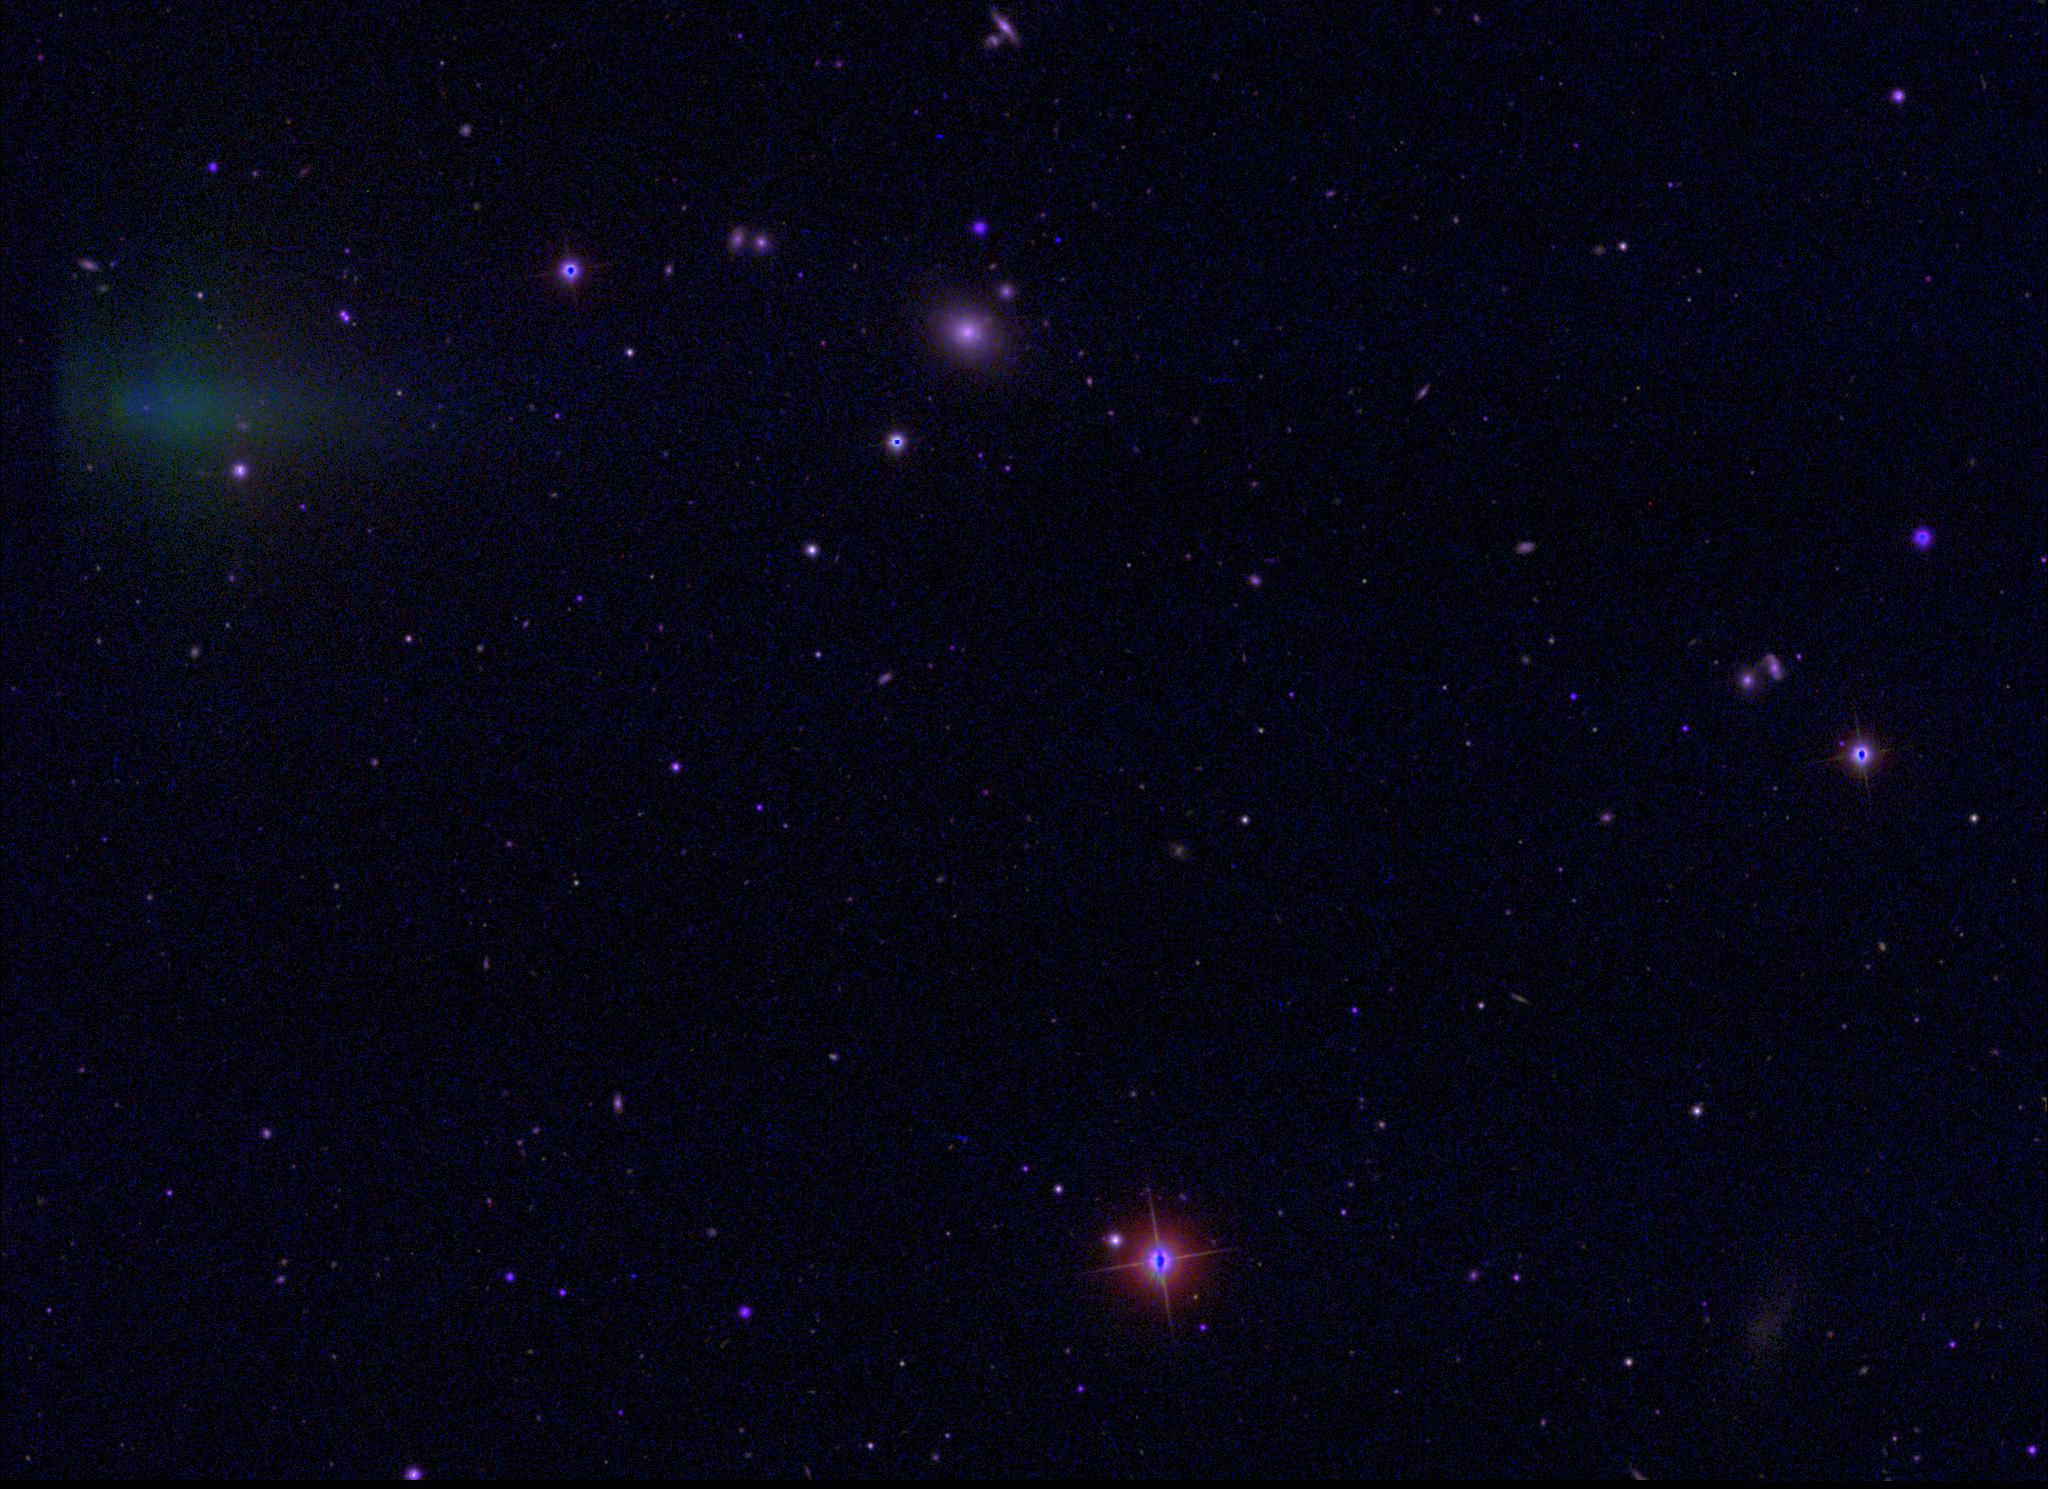L: (1051, 232, 1065, 247)
